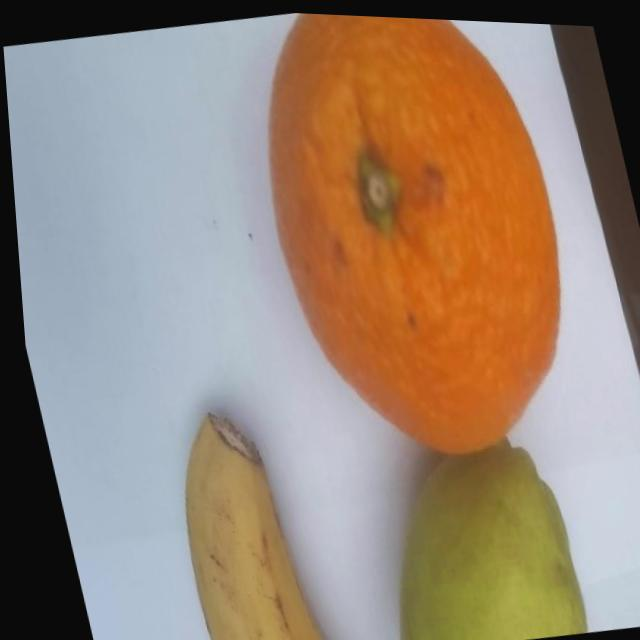Banana: (150, 397, 330, 640)
Orange: (228, 8, 602, 478)
